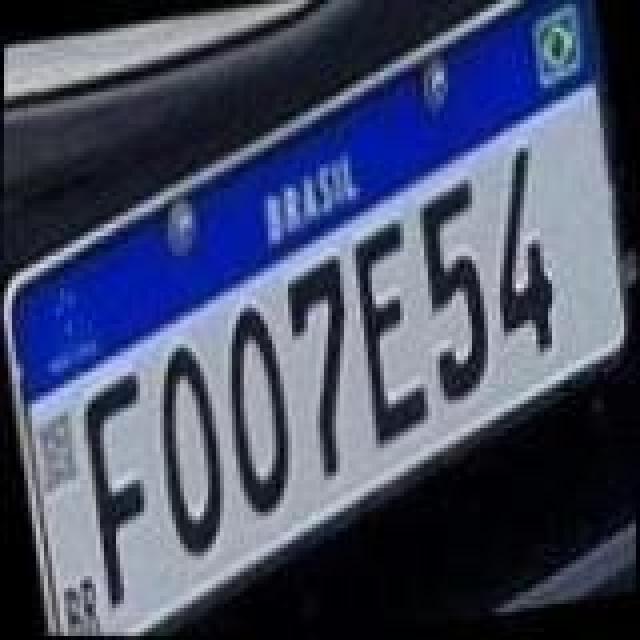4: (466, 136, 570, 360)
5: (398, 176, 514, 408)
7: (268, 252, 380, 496)
E: (338, 214, 446, 458)
F: (68, 360, 184, 608)
O: (202, 296, 306, 528), (138, 336, 242, 560)
